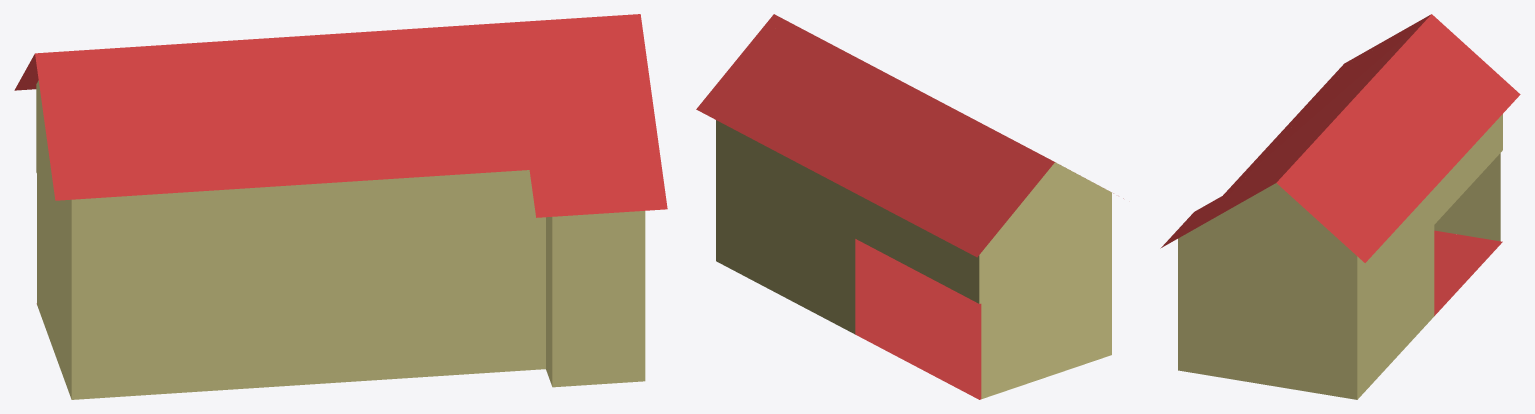
3 views of the same model, side by side, from view 1: azimuth 30°, elevation 25°; view 2: azimuth 150°, elevation 25°; view 3: azimuth 270°, elevation 25° (orthographic). The views are drawn at different scales.
Parts seen in each view (by area): view 1: group_5, group_3, group_4; view 2: group_5, group_3, group_6; view 3: group_5, group_3, group_6, group_4.
Boxes of the visible parts, x1=… form: group_5: x1=36, y1=80, x2=645, y2=399; group_3: x1=52, y1=14, x2=667, y2=217; group_4: x1=14, y1=52, x2=608, y2=213; group_5: x1=716, y1=120, x2=1111, y2=399; group_3: x1=696, y1=14, x2=1123, y2=257; group_6: x1=855, y1=239, x2=981, y2=399; group_5: x1=1178, y1=114, x2=1502, y2=399; group_3: x1=1160, y1=14, x2=1520, y2=262; group_6: x1=1434, y1=230, x2=1502, y2=315; group_4: x1=1218, y1=14, x2=1430, y2=256.
Bounding box in the file's own units: 25.8 × 19.85 × 12.76.
